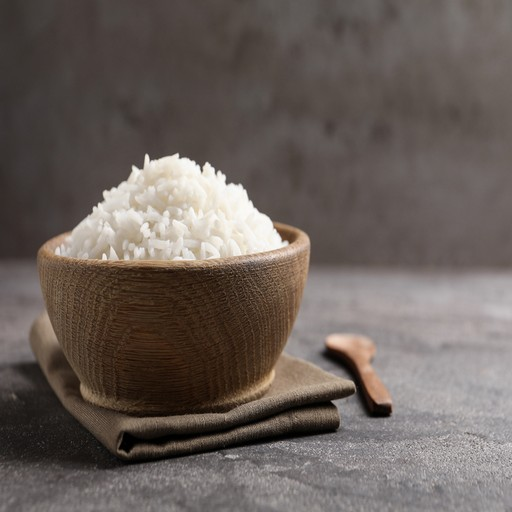rice: (108, 194, 239, 253)
